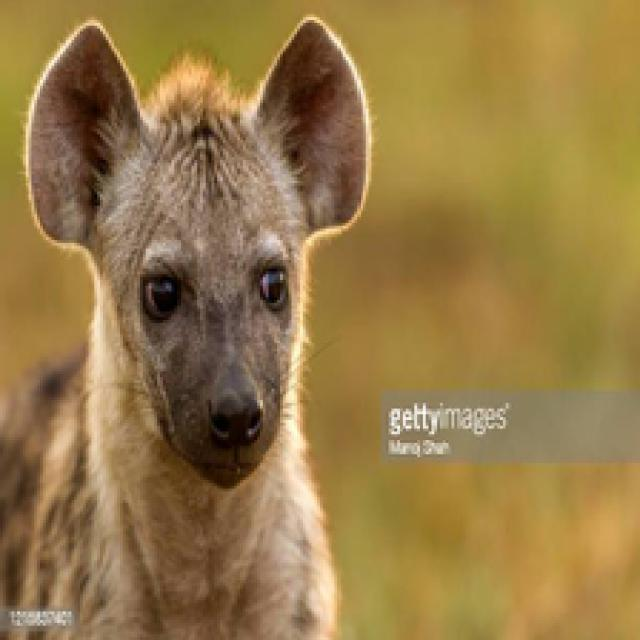hyena: (0, 0, 391, 640), (411, 35, 419, 74)
